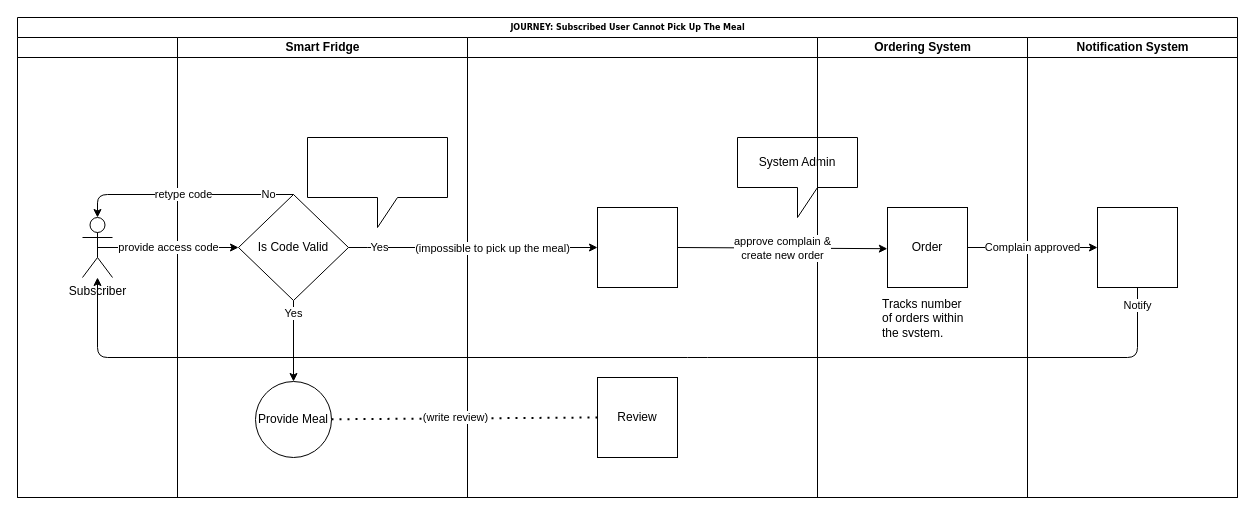
The diagram is 1255 pixels wide and 515 high, and some of its shapes have lost their labels. The box of each missing label's shape, as (x1, y1, x2, y2) in pixels:
Actor: (16, 36, 178, 498)
Feedback: (596, 206, 678, 288)
Feedback System: (466, 36, 818, 498)
Notification: (1096, 206, 1178, 288)
Some type of error preventing the meal to be picked by user: (306, 136, 448, 228)
